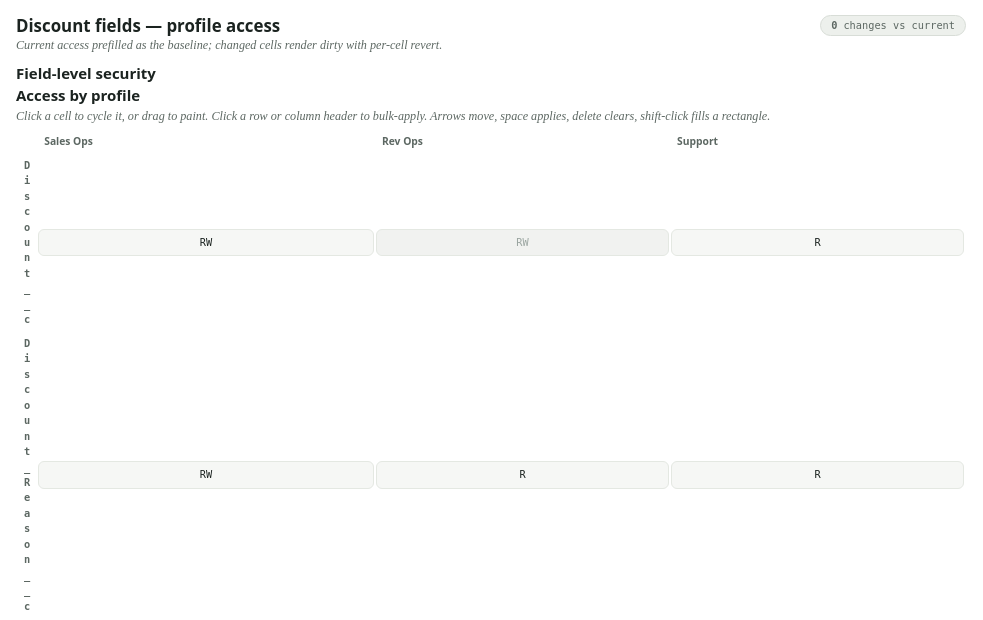
selector granularity › re-paints only the clicked cell in the rendered grid (§5.5)
Press the mouse on the 6th button with class "mcell" at {"x": 818, "y": 475}, box [671, 461, 964, 489]
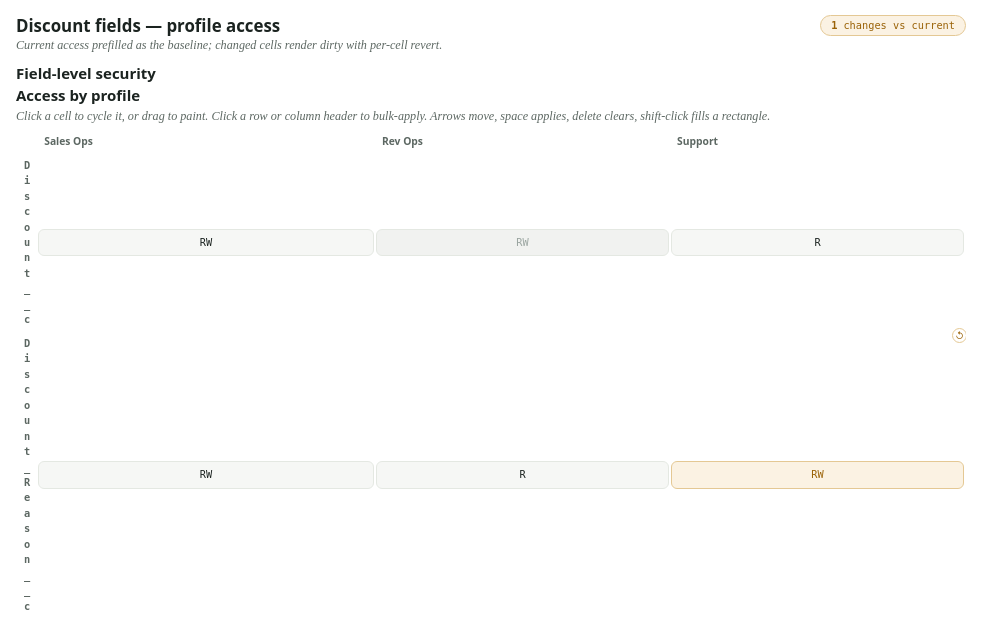
Expected: the element labelled "1 changes vs current" is shown, [820, 15, 966, 36]
